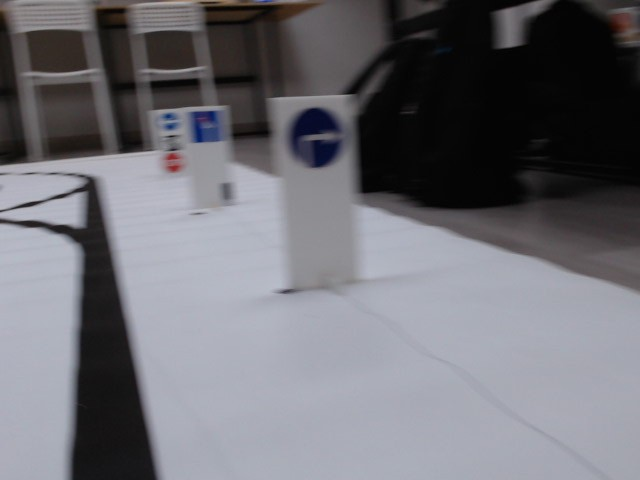Right: (286, 107, 345, 167)
